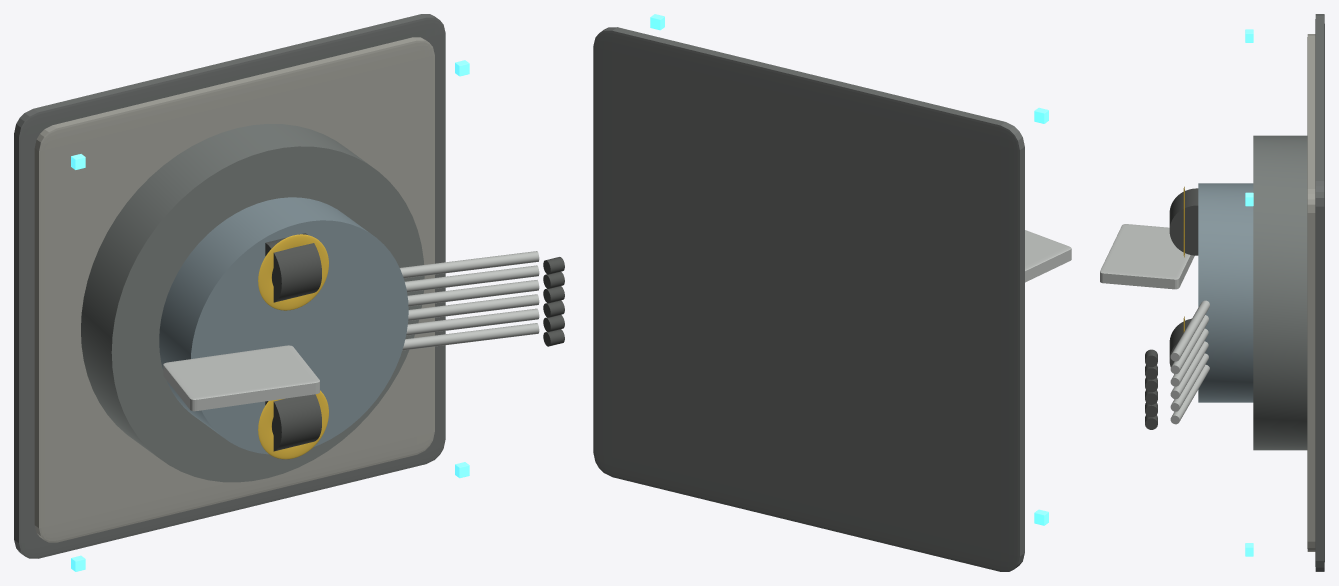
File: b-31-aa-turret-lod1.glb
The picture shows the model from 3 angles, left to right: view 1: azimuth 30°, elevation 25°; view 2: azimuth 150°, elevation 25°; view 3: azimuth 270°, elevation 25°; orthographic projection. The views are drawn at different scales.
Parts seen in each view (by area): view 1: foundation_inner_pad, turret_base, primary_turret_yaw, foundation, aa_radar, ammo_drum_1.5_vessel, ammo_drum_-1.5_vessel, ammo_drum_1.5_ring_high, aa_gun_barrel_5, aa_gun_barrel_0, aa_gun_barrel_4, aa_gun_barrel_1 (+3 smaller); view 2: foundation, aa_radar; view 3: turret_base, primary_turret_yaw, foundation, foundation_inner_pad, aa_radar, ammo_drum_1.5_vessel, aa_gun_barrel_5, aa_gun_barrel_0, aa_gun_barrel_4, aa_gun_barrel_1, aa_gun_barrel_3, aa_gun_barrel_2 (+1 smaller).
Boxes of the visible parts, box(x1,y1,x2,y2) form: foundation_inner_pad: box(34, 37, 434, 542); turret_base: box(81, 124, 424, 482); primary_turret_yaw: box(159, 197, 408, 454); foundation: box(14, 14, 445, 558); aa_radar: box(163, 345, 319, 411); ammo_drum_1.5_vessel: box(265, 233, 321, 302); ammo_drum_-1.5_vessel: box(265, 394, 321, 451); ammo_drum_1.5_ring_high: box(258, 234, 328, 310); aa_gun_barrel_5: box(400, 251, 539, 278); aa_gun_barrel_0: box(402, 323, 539, 350); aa_gun_barrel_4: box(405, 265, 539, 292); aa_gun_barrel_1: box(406, 308, 539, 335); foundation: box(593, 27, 1024, 571); aa_radar: box(1025, 230, 1071, 282); turret_base: box(1253, 135, 1307, 450); primary_turret_yaw: box(1198, 183, 1253, 402); foundation: box(1315, 14, 1324, 571); foundation_inner_pad: box(1307, 34, 1315, 551); aa_radar: box(1100, 224, 1194, 289); ammo_drum_1.5_vessel: box(1169, 188, 1198, 255); aa_gun_barrel_5: box(1170, 300, 1209, 361); aa_gun_barrel_0: box(1170, 364, 1209, 424); aa_gun_barrel_4: box(1170, 315, 1208, 373); aa_gun_barrel_1: box(1170, 353, 1208, 411); aa_gun_barrel_3: box(1170, 328, 1208, 386); aa_gun_barrel_2: box(1170, 341, 1208, 399).
Size of what is drawn, in the model's own units: 9.45 by 9 by 4.71.
